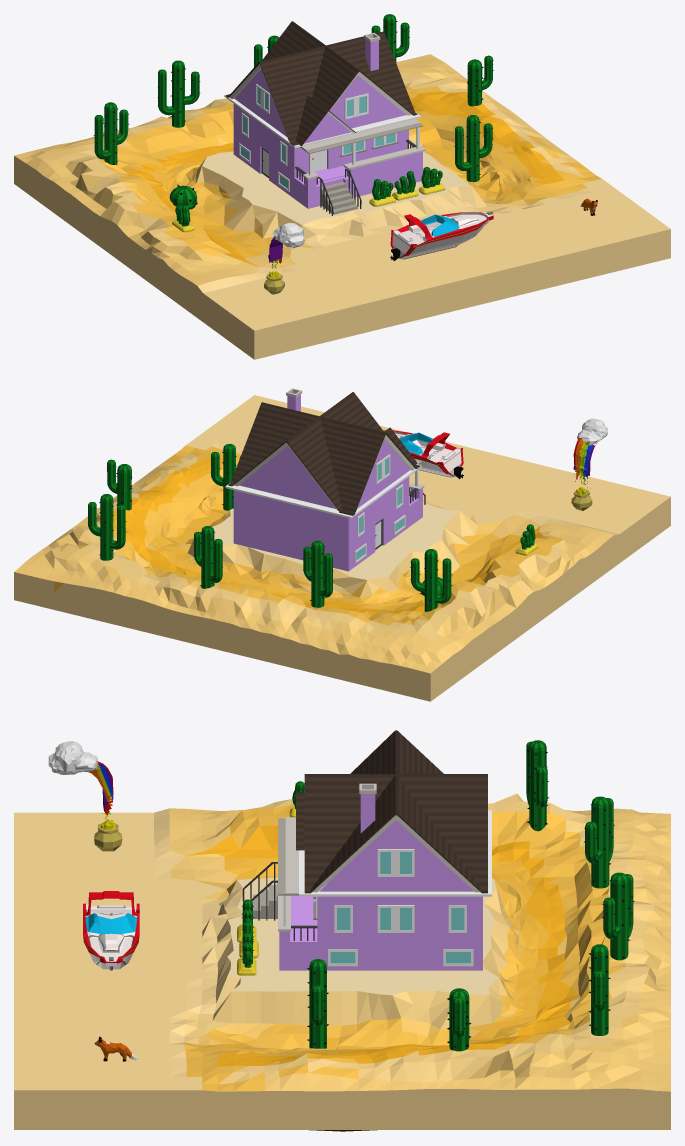
The picture shows the model from 3 angles, top to bottom: view 1: azimuth 30°, elevation 25°; view 2: azimuth 150°, elevation 25°; view 3: azimuth 270°, elevation 25°; orthographic projection. The views are drawn at different scales.
Visible parts, largest first — view 1: Cube.001, Cube.391, VEHICLES_BOAT, Cylinder.037, Cylinder.044, Cylinder.045, OBJRANDOM_RAINBOW, Cylinder.038, Cylinder.042, Cylinder.039, Cylinder.041, Sphere.023 (+1 smaller); view 2: Cube.001, Cube.391, VEHICLES_BOAT, Cylinder.042, Cylinder.045, OBJRANDOM_RAINBOW, Cylinder.044, Cylinder.043, Cylinder.037, Cylinder.038; view 3: Cube.001, Cube.391, VEHICLES_BOAT, OBJRANDOM_RAINBOW, Cylinder.043, Cylinder.044, Cylinder.045, Cylinder.042, Cylinder.037, Cylinder.038, Cylinder.041.
Boxes of the visible parts, left/top/right/bottom form: Cube.001: left=14, top=54, right=670, bottom=359; Cube.391: left=224, top=21, right=425, bottom=215; VEHICLES_BOAT: left=390, top=211, right=493, bottom=260; Cylinder.037: left=454, top=115, right=493, bottom=182; Cylinder.044: left=157, top=60, right=200, bottom=127; Cylinder.045: left=93, top=102, right=129, bottom=164; OBJRANDOM_RAINBOW: left=264, top=223, right=305, bottom=294; Cylinder.038: left=467, top=55, right=493, bottom=106; Cylinder.042: left=371, top=14, right=409, bottom=62; Cylinder.039: left=369, top=179, right=395, bottom=206; Cylinder.041: left=418, top=167, right=445, bottom=194; Sphere.023: left=169, top=184, right=197, bottom=209; Cube.001: left=14, top=395, right=670, bottom=701; Cube.391: left=225, top=388, right=425, bottom=571; VEHICLES_BOAT: left=383, top=430, right=463, bottom=479; Cylinder.042: left=88, top=494, right=126, bottom=560; Cylinder.045: left=410, top=549, right=452, bottom=611; OBJRANDOM_RAINBOW: left=571, top=418, right=607, bottom=510; Cylinder.044: left=303, top=540, right=333, bottom=607; Cylinder.043: left=193, top=526, right=222, bottom=588; Cylinder.037: left=211, top=444, right=240, bottom=510; Cylinder.038: left=107, top=459, right=131, bottom=510; Cube.001: left=14, top=793, right=670, bottom=1129; Cube.391: left=242, top=730, right=491, bottom=970; VEHICLES_BOAT: left=83, top=891, right=139, bottom=970; OBJRANDOM_RAINBOW: left=48, top=741, right=122, bottom=851; Cylinder.043: left=602, top=872, right=634, bottom=960; Cylinder.044: left=584, top=796, right=614, bottom=888; Cylinder.045: left=526, top=740, right=549, bottom=831; Cylinder.042: left=588, top=944, right=610, bottom=1035; Cylinder.037: left=307, top=959, right=328, bottom=1048; Cylinder.038: left=447, top=988, right=471, bottom=1051; Cylinder.041: left=237, top=932, right=256, bottom=975.
Bounding box in the file's own units: 4002 × 1693 × 4001.
37 materials, 2 textured.
